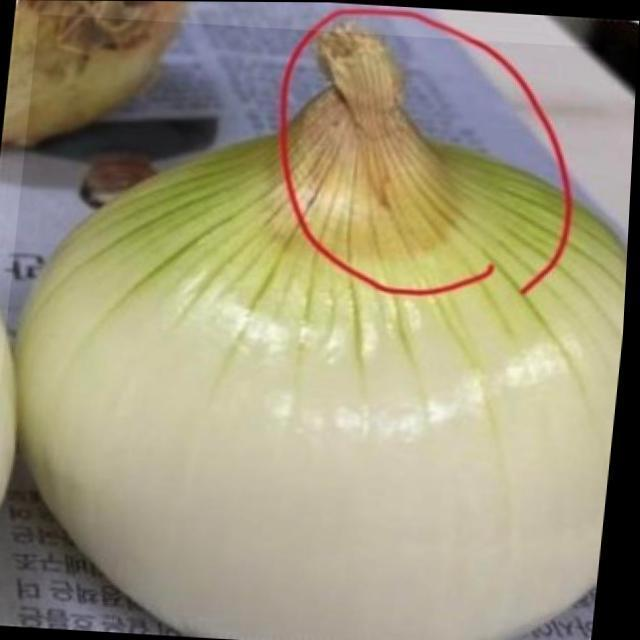Onion: (0, 14, 639, 640)
